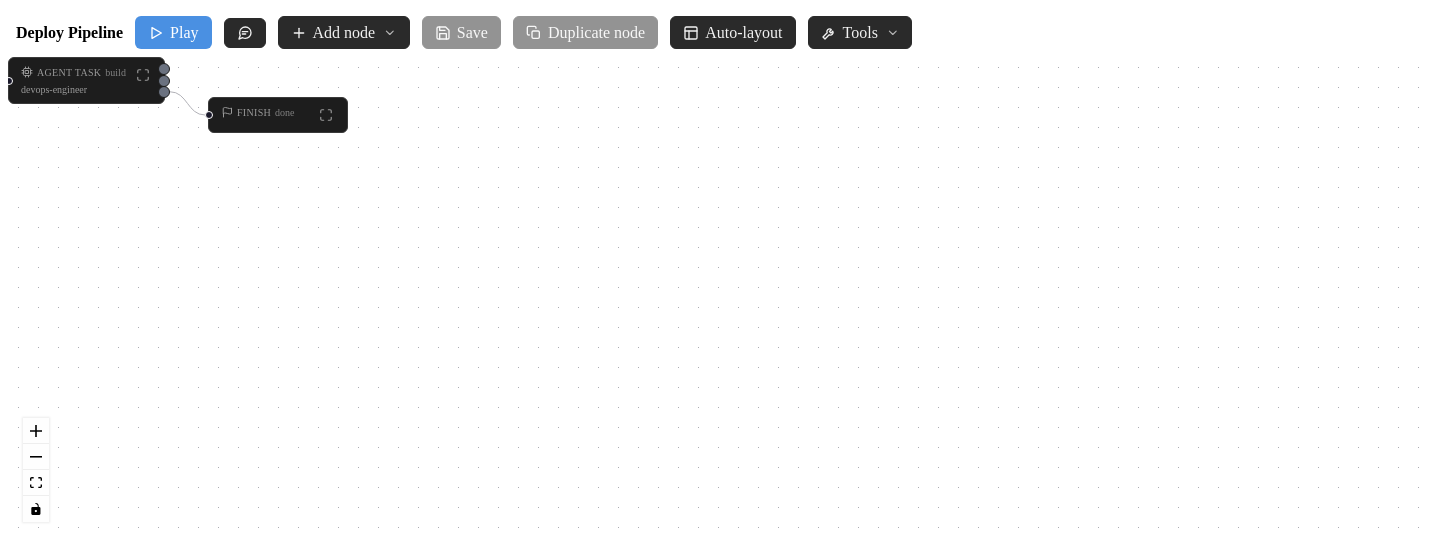
Scenario: FlowEditor playback › prevents a double start while the run is starting
This screenshot has width=1436, height=545.
Click the button "Play". click: {"x": 173, "y": 33}
box: [135, 16, 212, 49]
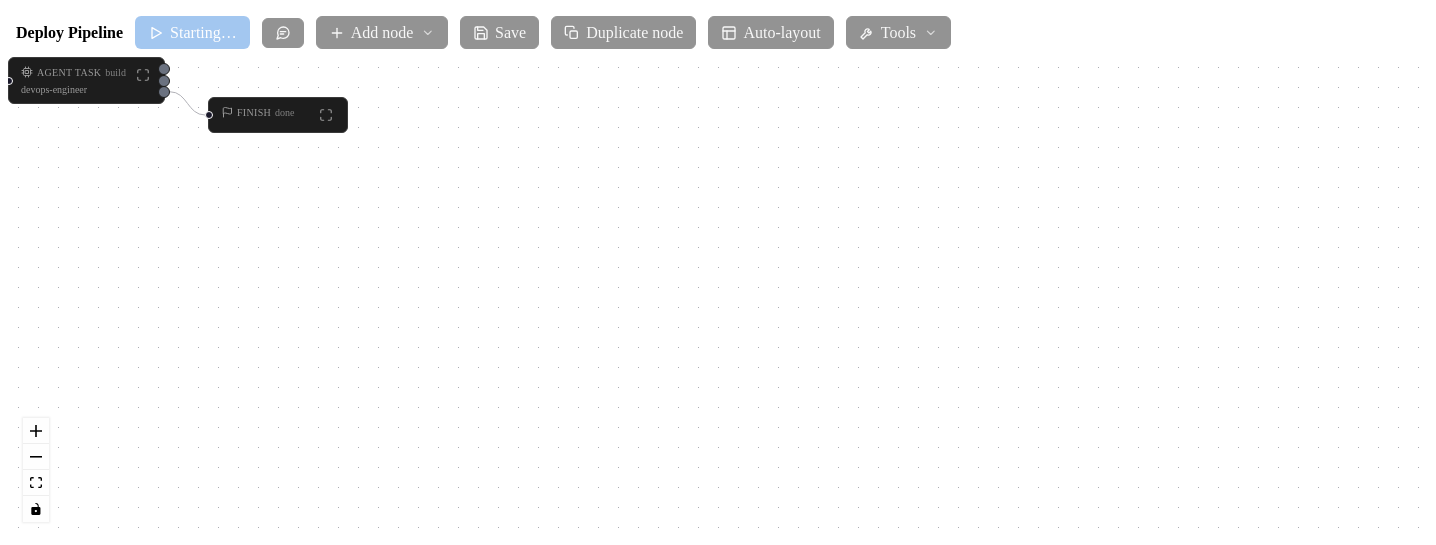
Now the button "Starting…" is disabled, box [135, 16, 250, 49]
